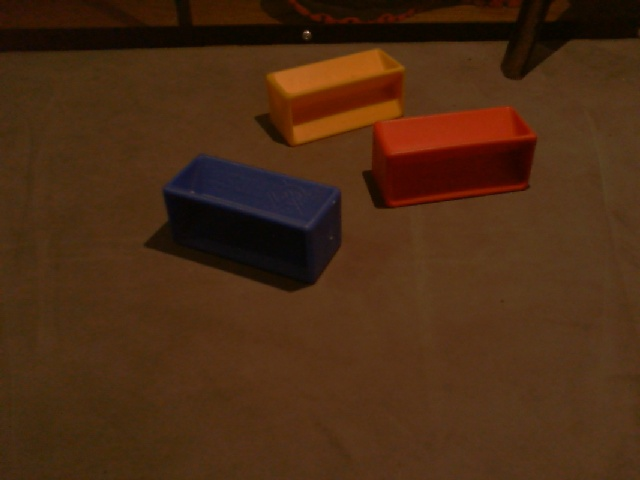BlueSample: (160, 152, 344, 288)
RedSample: (367, 106, 543, 211)
YellowSample: (263, 46, 405, 147)
